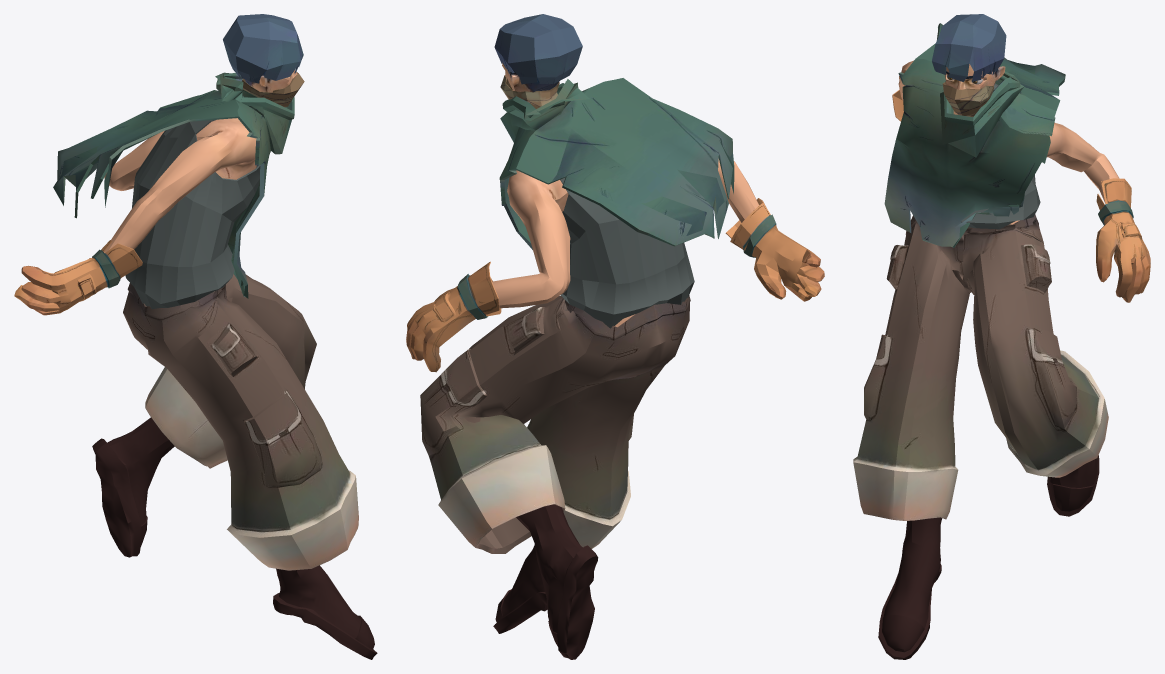
File: jesse1_optimized.glb
3 views of the same model, side by side, from view 1: azimuth 30°, elevation 25°; view 2: azimuth 150°, elevation 25°; view 3: azimuth 270°, elevation 25° (orthographic). The views are drawn at different scales.
Visible parts, largest first — view 1: pants.005, shirt.005, cape.005, body.005, boots left.005, boots right.005, glove right.005, hair.005, mask.005; view 2: pants.005, cape.005, shirt.005, body.005, boots left.005, glove right.005, hair.005, glove left.005, boots right.005, mask.005; view 3: pants.005, cape.005, boots right.005, glove left.005, hair.005, body.005, boots left.005, shirt.005, mask.005.
Part boxes in pixels (bbox=[...]): pants.005: bbox=[123, 274, 358, 570]; shirt.005: bbox=[125, 119, 260, 309]; cape.005: bbox=[53, 72, 294, 298]; body.005: bbox=[104, 70, 297, 252]; boots left.005: bbox=[92, 417, 174, 557]; boots right.005: bbox=[273, 565, 377, 659]; glove right.005: bbox=[14, 240, 142, 315]; hair.005: bbox=[223, 14, 303, 83]; mask.005: bbox=[242, 71, 304, 107]; pants.005: bbox=[420, 295, 690, 553]; cape.005: bbox=[499, 78, 734, 249]; shirt.005: bbox=[560, 177, 694, 328]; body.005: bbox=[428, 63, 759, 331]; boots left.005: bbox=[516, 504, 598, 659]; glove right.005: bbox=[725, 198, 824, 301]; hair.005: bbox=[494, 14, 582, 84]; glove left.005: bbox=[406, 261, 501, 372]; boots right.005: bbox=[493, 545, 547, 633]; mask.005: bbox=[500, 75, 559, 108]; pants.005: bbox=[853, 214, 1108, 520]; cape.005: bbox=[884, 23, 1065, 247]; boots right.005: bbox=[878, 517, 942, 659]; glove left.005: bbox=[1096, 178, 1150, 302]; hair.005: bbox=[932, 14, 1006, 81]; body.005: bbox=[898, 60, 1147, 253]; boots left.005: bbox=[1047, 455, 1099, 516]; shirt.005: bbox=[960, 83, 1040, 229]; mask.005: bbox=[942, 81, 994, 116].
Size of the model in its own units: 0.9866 by 1.78 by 0.7912.
Materials: 14 (14 with a texture image).
